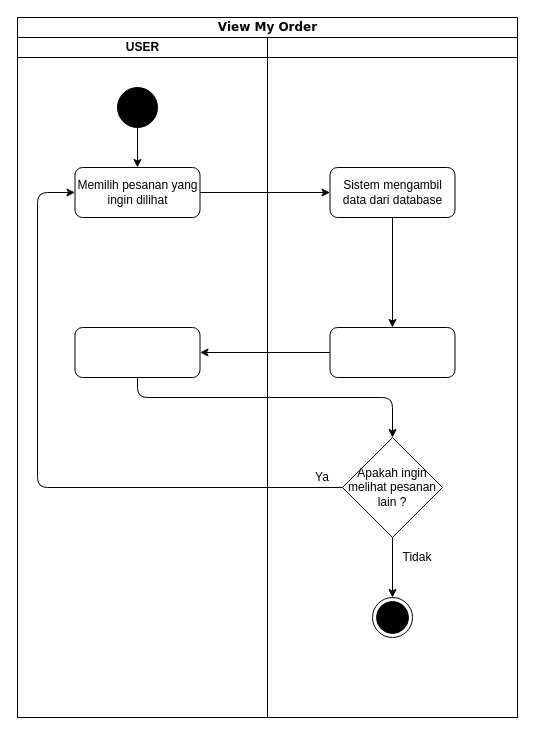
The diagram is 535 pixels wide and 735 high, and some of its shapes have lost their labels. The shapes that lost their labels are listed below. From the top down, each one's box as (x1, y1, x2, y2) in pixels, then its label:
(74, 326, 200, 378): User melihat detail pesanan
(329, 326, 455, 378): Sistem menampilkan pesanan yang ingin dilihat
(266, 36, 518, 718): SYSTEM
